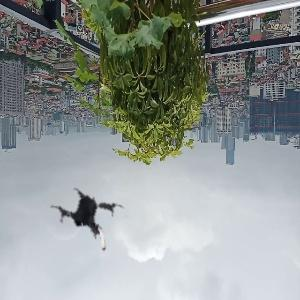drone: (44, 180, 131, 267)
